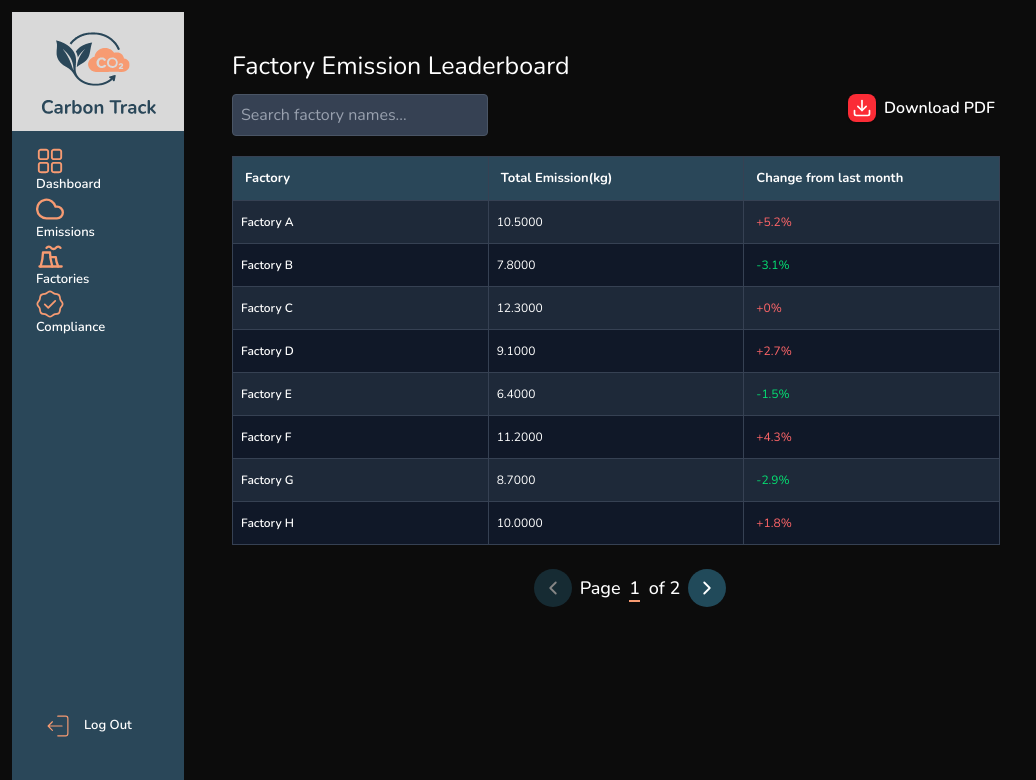
Test case: FactoryEmissionLeaderboard › filters factories based on search term
Type "Factory A" into the field with placeholder "Search factory names..." at (360, 114), box x1=232 y1=94 x2=488 y2=136
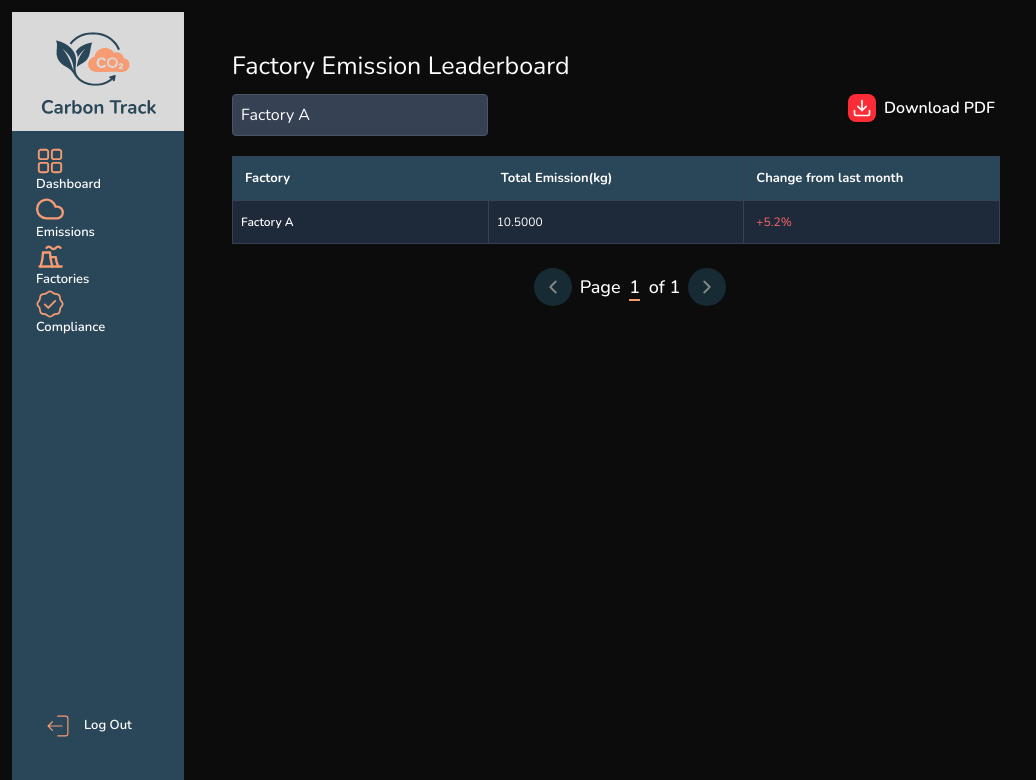
Expected: the text "Factory A" is shown, x1=232 y1=200 x2=488 y2=244
Result: the text "Factory B" is gone
Clear the field with placeholder "Search factory names..." at (360, 114), box x1=232 y1=94 x2=488 y2=136
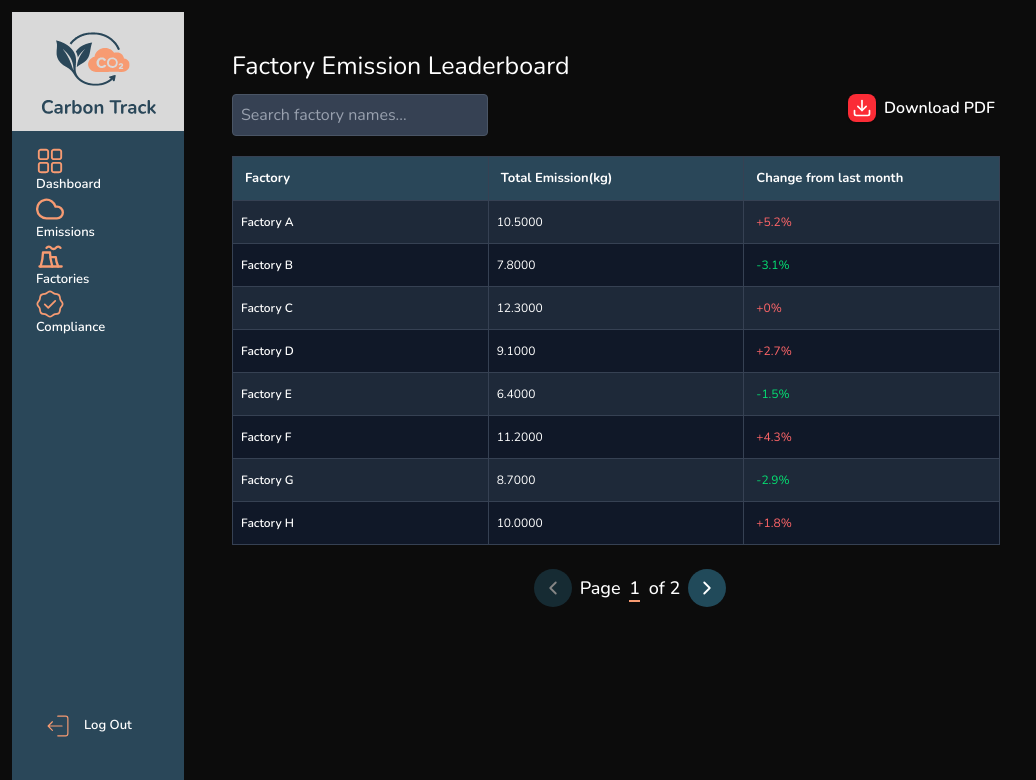
Expected: the text "Factory A" is shown, x1=232 y1=200 x2=488 y2=244
Result: the text "Factory B" is shown at x1=232 y1=244 x2=488 y2=286
